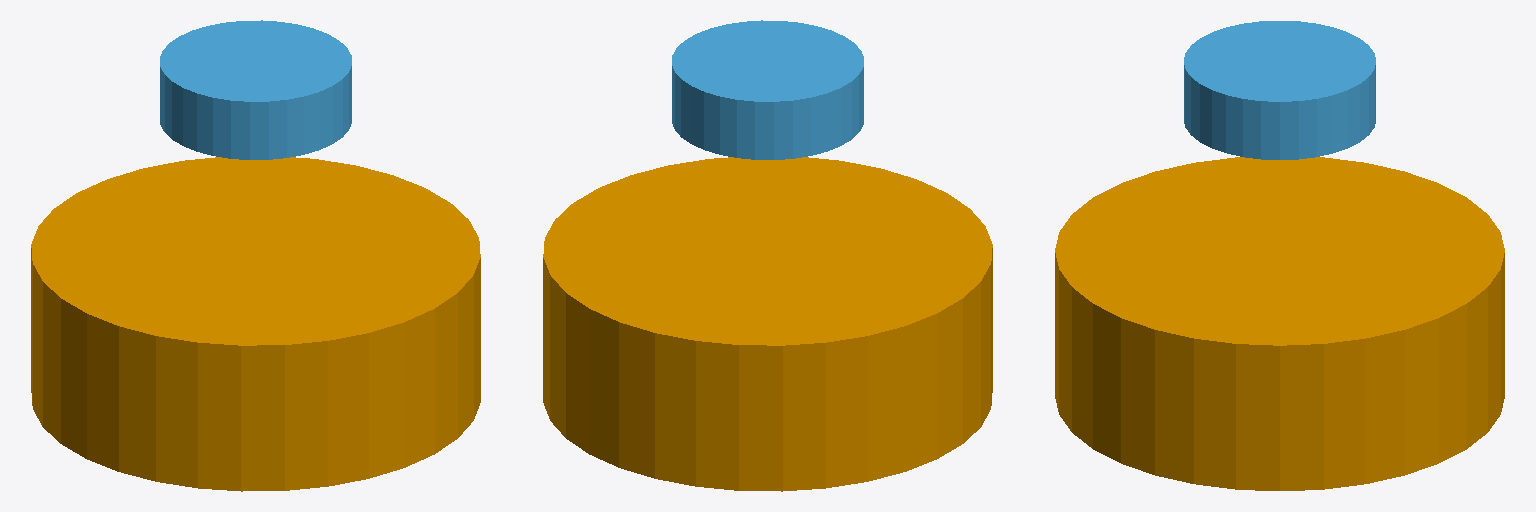
robot.urdf — inpipe_base:
<?xml version="1.0"?>
<robot name="inpipe_base" xmlns:xacro="http://www.ros.org/wiki/xacro">
  <link name="base_link">
    <inertial><origin xyz="0 0 0"/><mass value="1.0"/><inertia ixx="0.002" ixy="0" ixz="0" iyy="0.002" iyz="0" izz="0.002"/></inertial>
    <visual><origin xyz="0 0 0"/><geometry><cylinder radius="0.07" length="0.05"/></geometry></visual>
    <collision><origin xyz="0 0 0"/><geometry><cylinder radius="0.07" length="0.05"/></geometry></collision>
  </link>

  <link name="lidar_link">
    <inertial><origin xyz="0 0 0"/><mass value="0.3"/><inertia ixx="0.0005" ixy="0" ixz="0" iyy="0.0005" iyz="0" izz="0.0005"/></inertial>
    <visual><origin xyz="0 0 0"/><geometry><cylinder radius="0.03" length="0.02"/></geometry></visual>
    <collision><origin xyz="0 0 0"/><geometry><cylinder radius="0.03" length="0.02"/></geometry></collision>
  </link>

  <joint name="base_to_lidar" type="fixed">
    <parent link="base_link"/>
    <child link="lidar_link"/>
    <origin xyz="0 0 0.08" rpy="0 0 0"/>
  </joint>
</robot>

--- Render facts (derived) ---
The picture shows the robot from 3 angles, left to right: view 1: azimuth 30°, elevation 25°; view 2: azimuth 150°, elevation 25°; view 3: azimuth 270°, elevation 25°; orthographic projection.
Robot: inpipe_base — 2 links, 1 joints (1 fixed); root link base_link; default pose: all joints at 0.
Visible links, largest first — view 1: base_link, lidar_link; view 2: base_link, lidar_link; view 3: base_link, lidar_link.
Boxes of the visible links, x1,y1,x2,y2 form: base_link: [31, 157, 480, 491]; lidar_link: [160, 20, 351, 159]; base_link: [543, 157, 992, 491]; lidar_link: [672, 20, 863, 159]; base_link: [1055, 157, 1504, 490]; lidar_link: [1184, 21, 1375, 159].
Bounding box of the posed robot: 0.14 × 0.14 × 0.115 m (x, y, z).
Geometry: primitives only (box / cylinder / sphere), no mesh files.